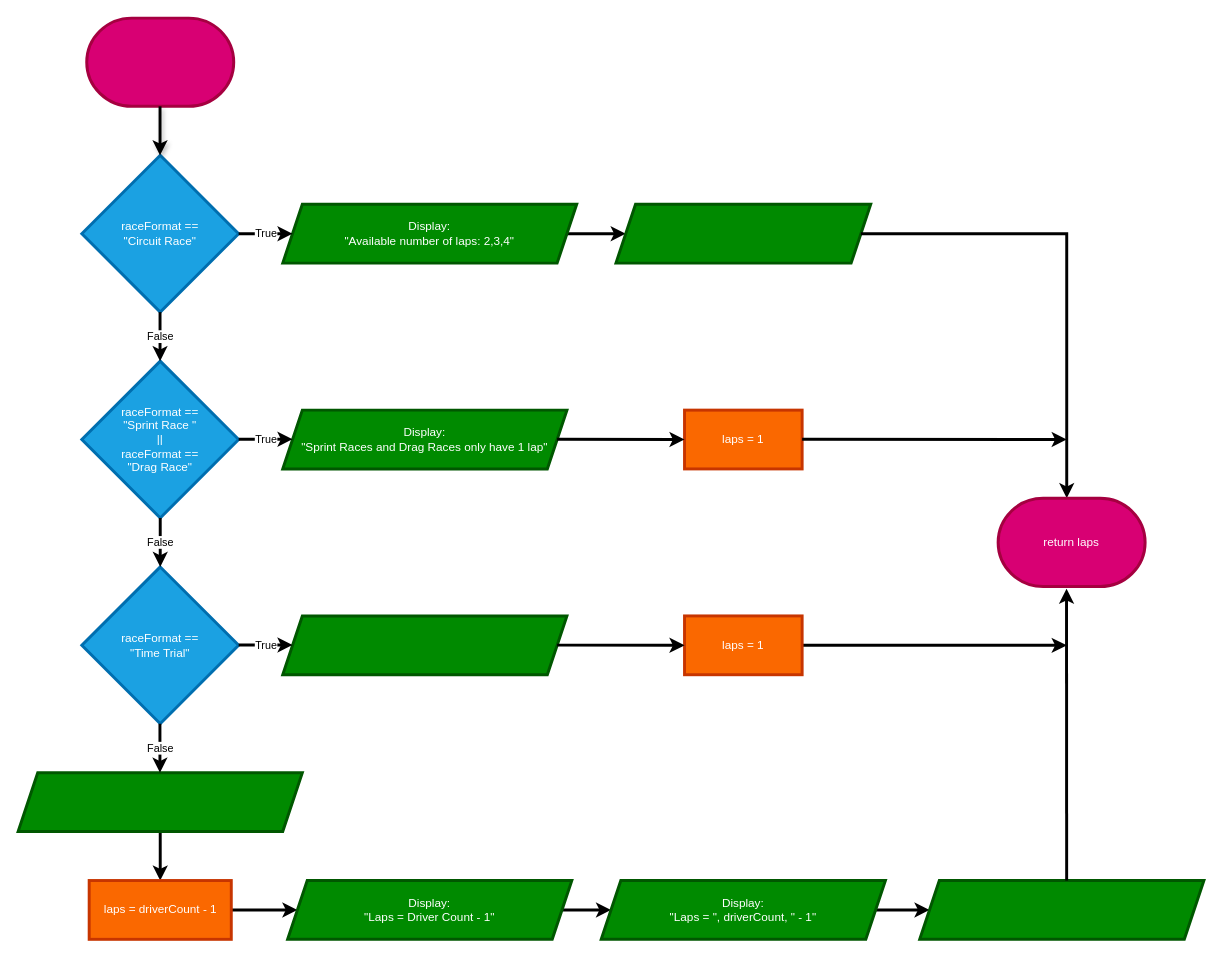
This 1222x957 diagram has some shape labels left out. The shapes that lost their labels are listed below. From the top down, each one's centre as x and y in pixels, then its label:
pixel 160 61: setLaps (int, driverCount, string& raceFormat)
pixel 743 233: Prompt: "How many laps would you like? (2/3/4): "
pixel 424 645: Display: "Available number of laps: Unlimited"
pixel 159 802: Display: "Number of laps corresponds with the number of drivers"
pixel 1061 909: Display: "Laps = ", laps
